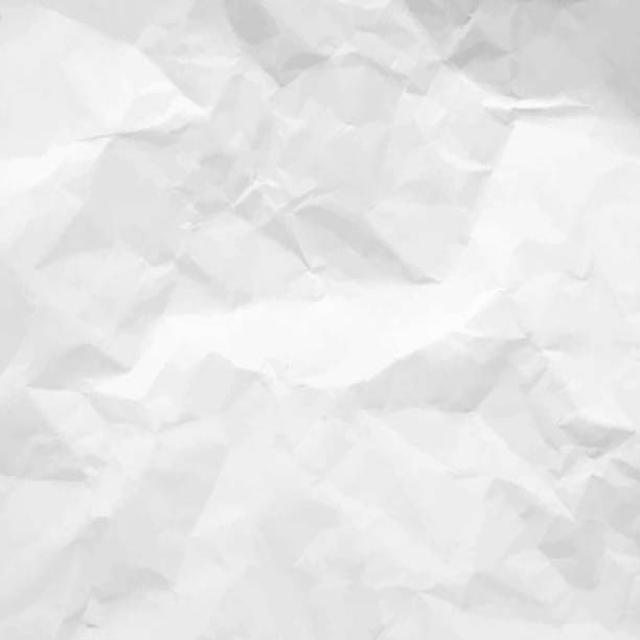paper: (32, 61, 606, 534)
